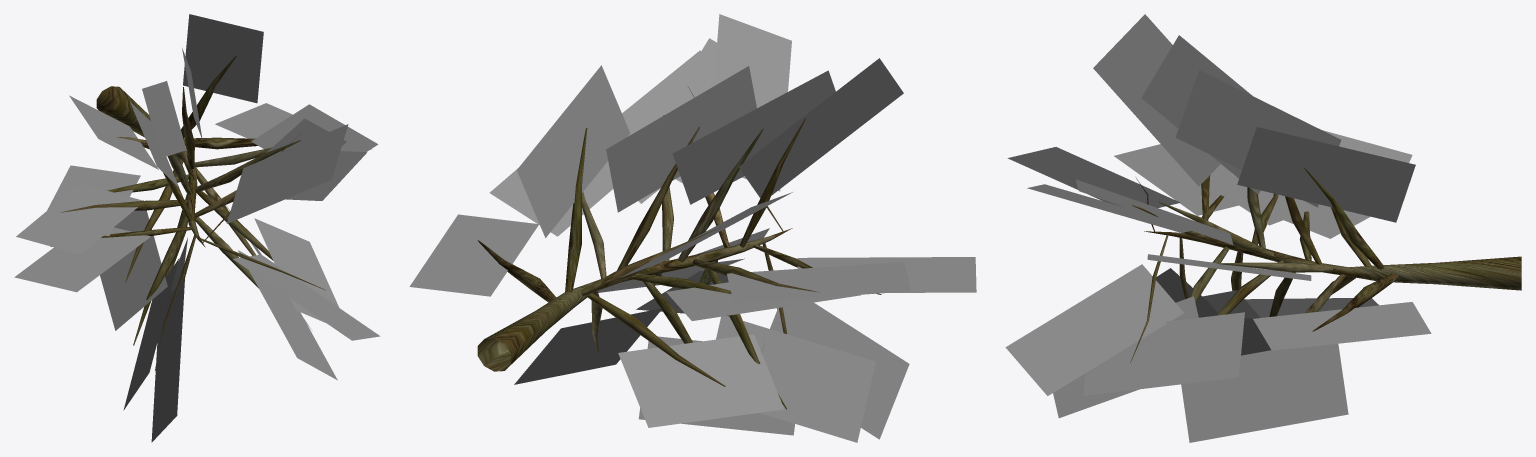
Rendered from great_succ_bb3_e.obj.
The picture shows the model from 3 angles, left to right: view 1: azimuth 30°, elevation 25°; view 2: azimuth 150°, elevation 25°; view 3: azimuth 270°, elevation 25°; orthographic projection. The views are drawn at different scales.
Parts seen in each view (by area): view 1: plant_pmat3, plant_pmat2, plant_pmat1; view 2: plant_pmat3, plant_pmat2, plant_pmat1; view 3: plant_pmat3, plant_pmat2, plant_pmat1.
Boxes of the visible parts, x1,y1,x2,y2 form: plant_pmat3: (14,14,380,442); plant_pmat2: (50,56,325,370); plant_pmat1: (96,86,205,247); plant_pmat3: (409,14,976,442); plant_pmat2: (478,87,881,409); plant_pmat1: (477,228,792,371); plant_pmat3: (1005,14,1431,442); plant_pmat2: (1130,167,1398,362); plant_pmat1: (1144,231,1521,290).
Size of the model in its own units: 3.64 by 2.93 by 3.76.
